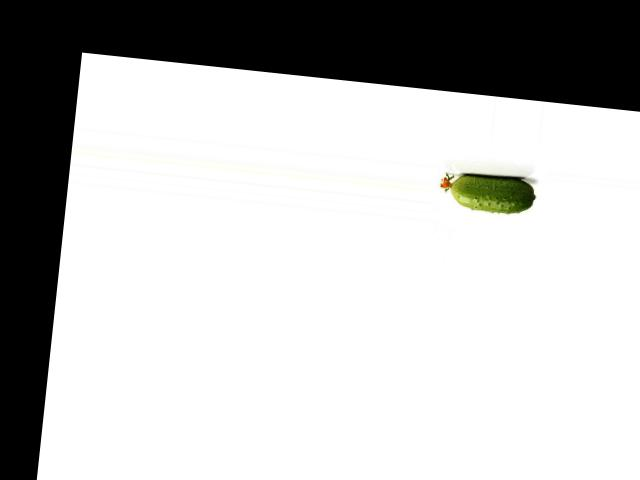cucumber: (439, 169, 538, 216)
